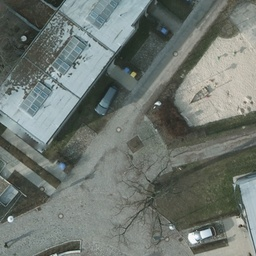car: (94, 84, 117, 116), (184, 225, 215, 241)
